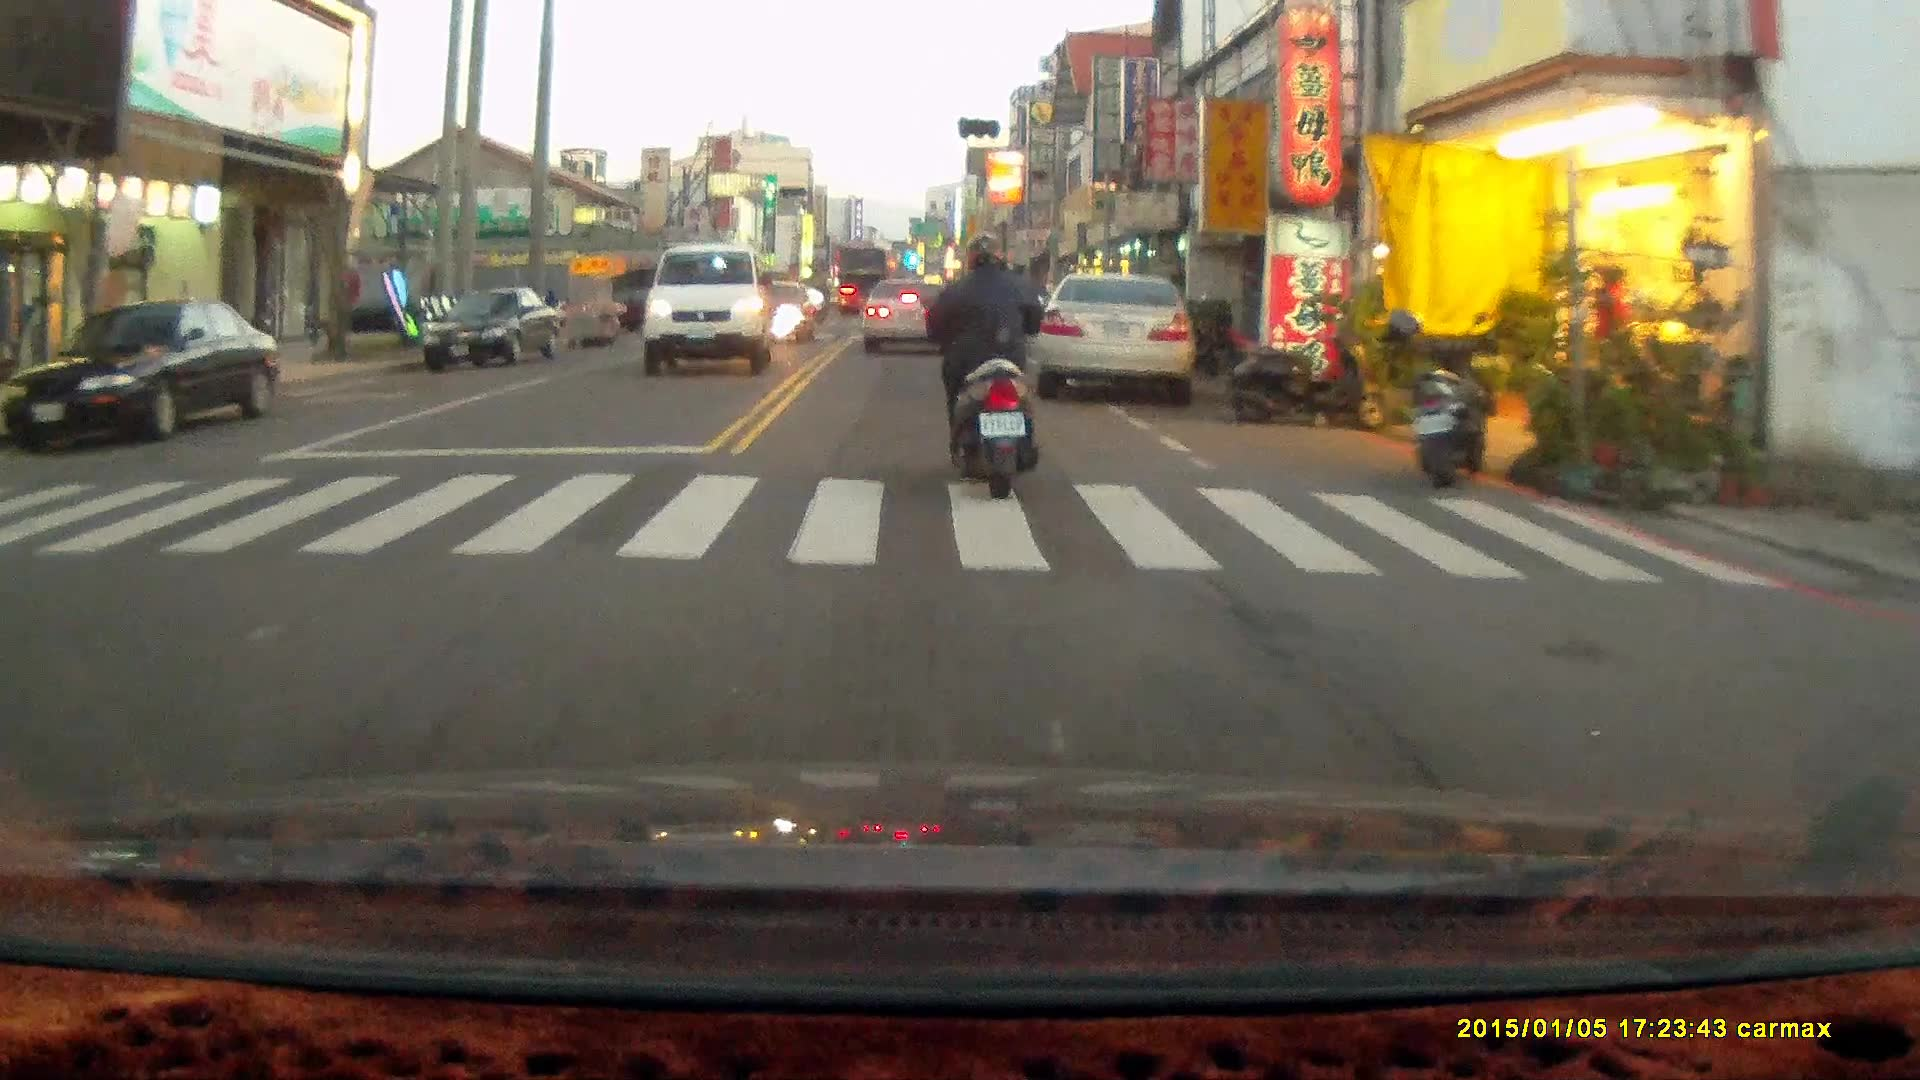pedestrian: (1596, 262, 1636, 399)
rider: (924, 228, 1049, 497)
vehicle: (11, 300, 278, 446), (1039, 274, 1198, 409), (643, 246, 775, 381), (421, 284, 564, 372), (859, 279, 958, 356)
